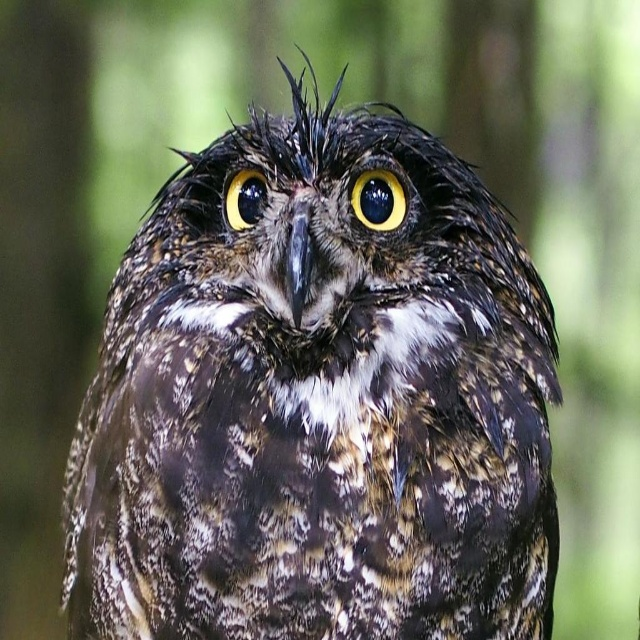Owl: (57, 44, 568, 639)
